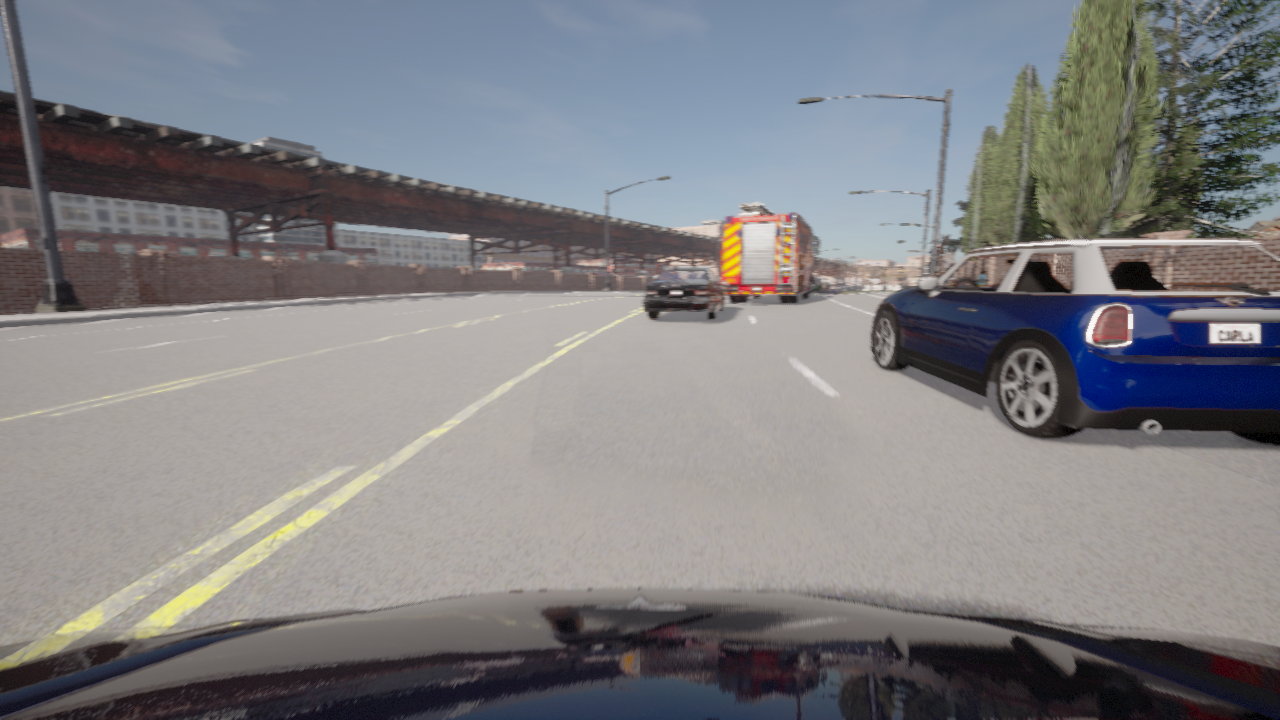cyclist: (0, 588, 1279, 719), (870, 238, 1279, 444), (721, 202, 819, 303), (643, 266, 726, 319), (810, 277, 829, 293), (812, 277, 826, 293), (831, 283, 839, 293)
